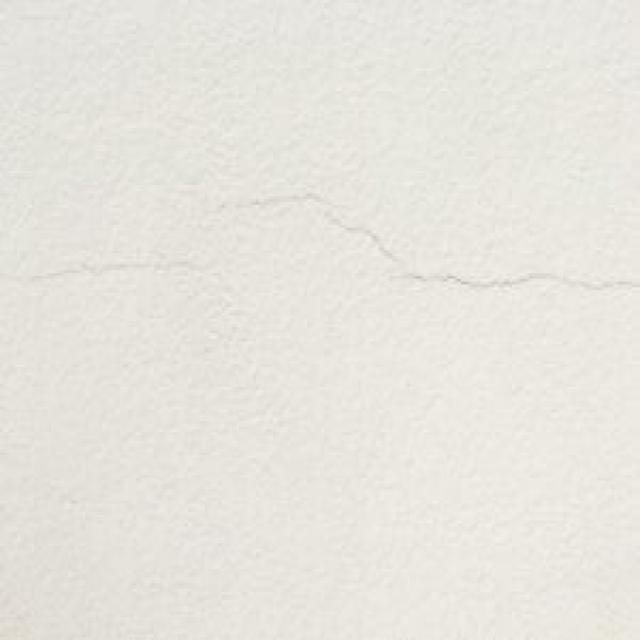leak: (316, 214, 640, 290), (6, 256, 212, 288), (207, 184, 353, 208)
